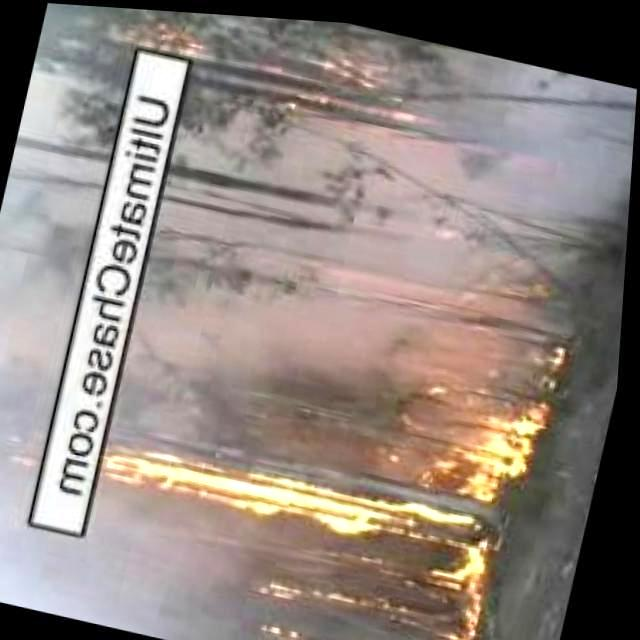fire: (80, 431, 508, 562), (404, 330, 564, 506), (286, 26, 426, 118), (105, 6, 229, 74), (262, 568, 393, 622), (414, 559, 499, 640)
